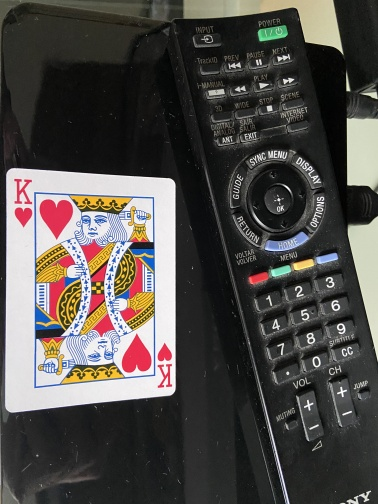king: (3, 167, 178, 415)
